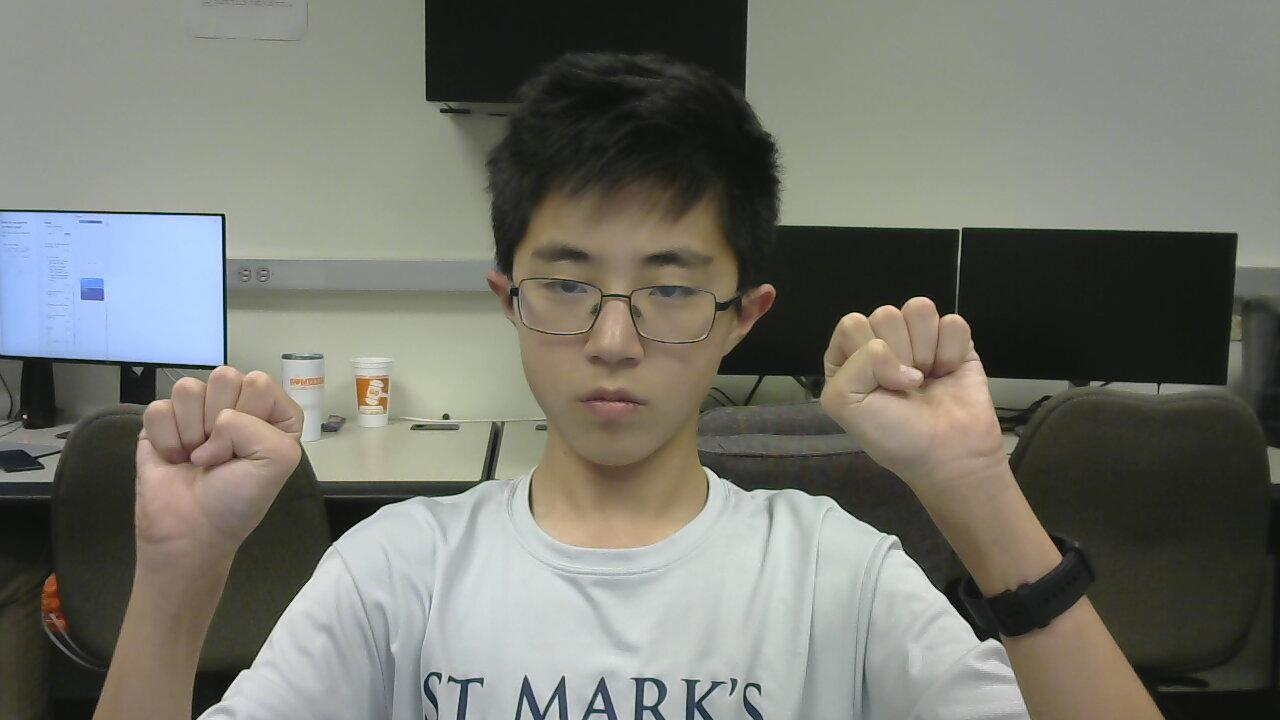fist: (113, 362, 316, 563), (816, 297, 1010, 494)
